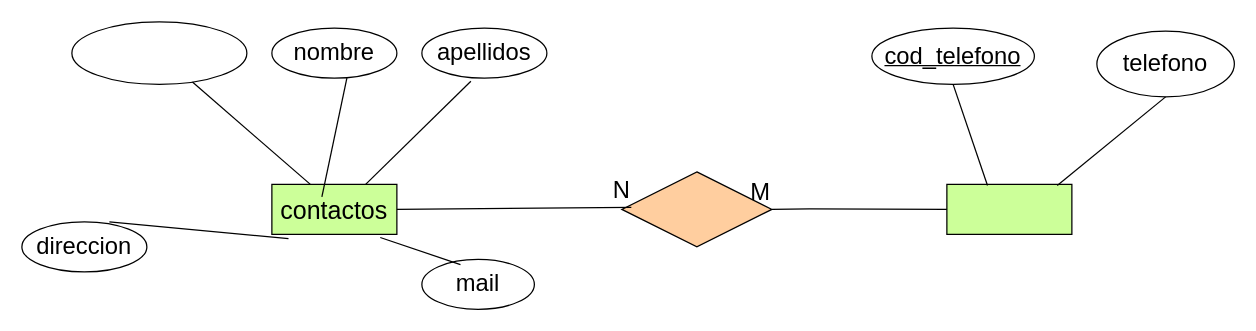
Image size: 1256x331. Some labels were removed from this diagram. The shapes that lost their labels are listed below. From the top down, each one's centre as x and y in pixels, then its label:
pixel 159 52: cod_contacto
pixel 696 209: tienen
pixel 1009 208: telefonos
